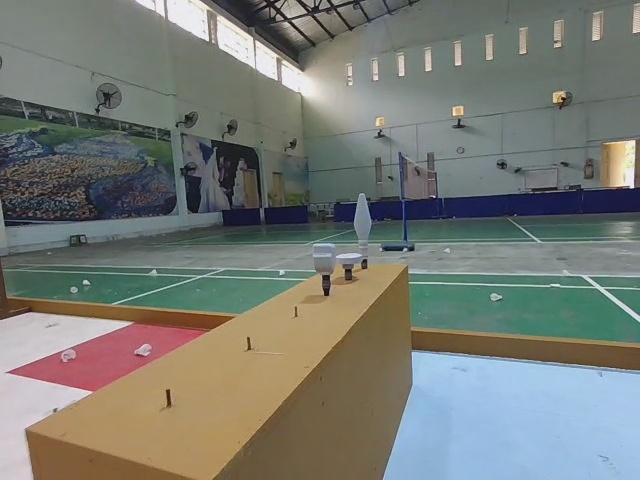Fist: (313, 245, 337, 299)
Hand: (338, 253, 363, 280)
Sph: (351, 191, 374, 273)
